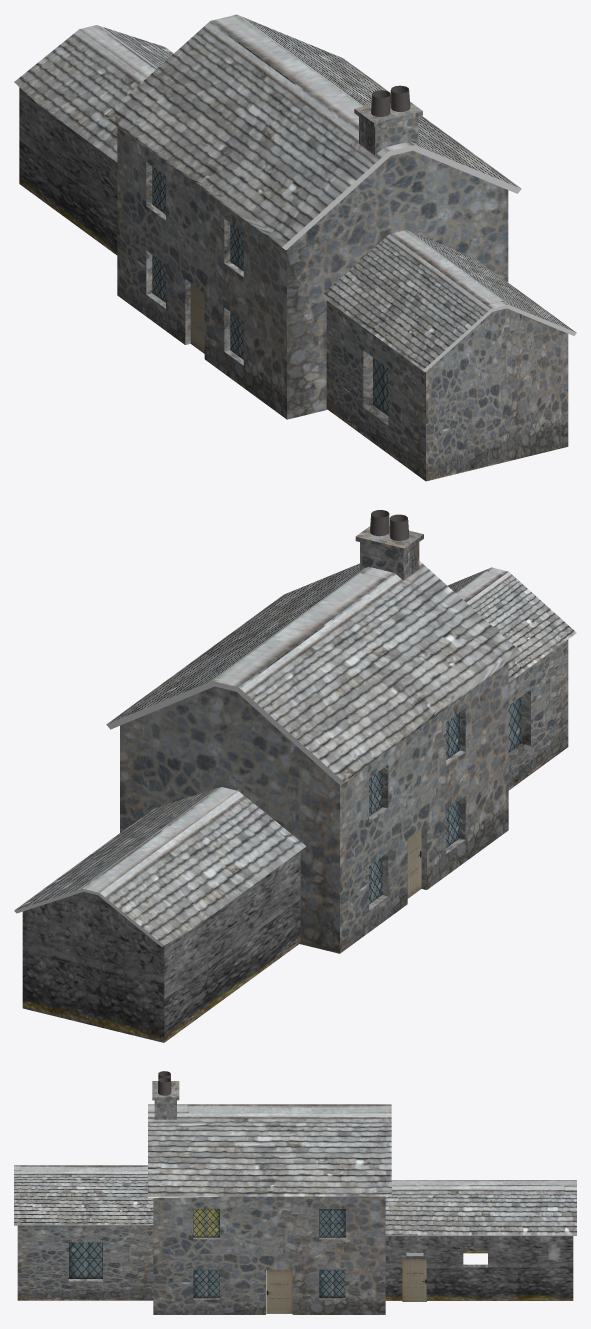
Rendered from farmHouse.fbx.
3 renders of one model, top to bottom at view 1: azimuth 30°, elevation 25°; view 2: azimuth 150°, elevation 25°; view 3: azimuth 270°, elevation 25°, orthographic. The views are drawn at different scales.
Parts seen in each view (by area): view 1: house; view 2: house; view 3: house, FrontDoor, ShedDoor.
Boxes of the visible parts, x1,y1,x2,y2 form: house: (14,14,576,481); house: (14,510,576,1042); house: (14,1071,576,1314); FrontDoor: (266,1269,292,1313); ShedDoor: (402,1259,426,1301).
Bounding box in the file's own units: 681 × 801 × 2023.
